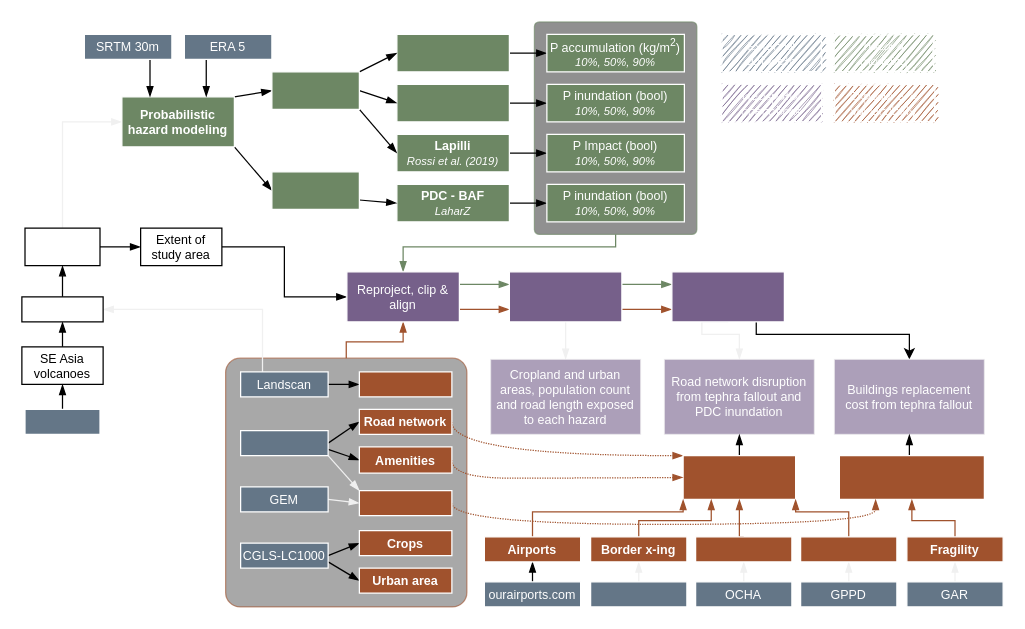
The diagram is 1025 pixels wide and 629 high, and some of its shapes have lost their labels. The centre of each missing label's shape, as x and y in pixels:
"Buildings" goes at pixel 405 502.
"Exposure analysis" goes at pixel 565 296.
"GVP" goes at pixel 62 421.
"Impact analysis" goes at pixel 727 296.
"OSM" goes at pixel 283 442.
"PDC - Collapse Energy cone" goes at pixel 452 102.
"PEI ranking" goes at pixel 62 309.
"Physical vulnerability model" goes at pixel 911 476.
"Population" goes at pixel 405 384.
"Power plants" goes at pixel 848 549.
"Road criticality model" goes at pixel 739 476.
"Scenarios: Flow volume" goes at pixel 315 190.
"Scenarios: VEI 3, 4, 5" goes at pixel 315 90.
"Sea ports" goes at pixel 743 549.
"Selected volcanoes" goes at pixel 62 246.
"Tephra TEPHRA2" goes at pixel 452 52.
"WFP SDI-T" goes at pixel 638 594.
